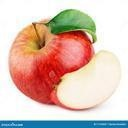apple: (49, 49, 122, 111)
